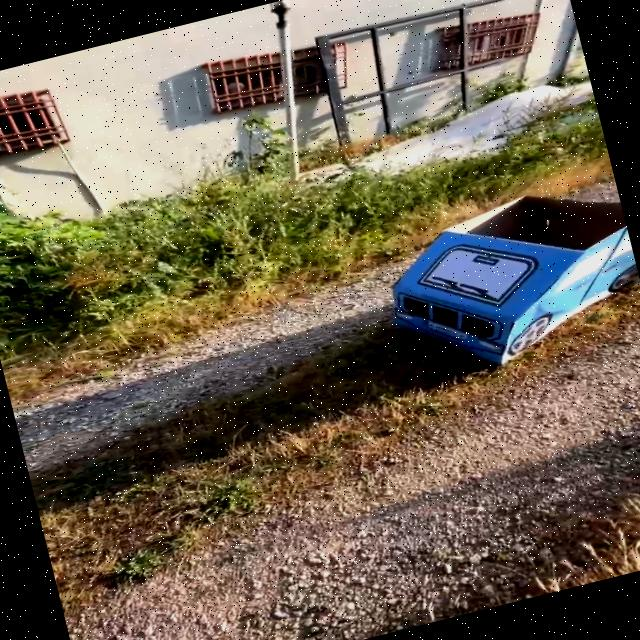blue_car: (345, 151, 640, 408)
